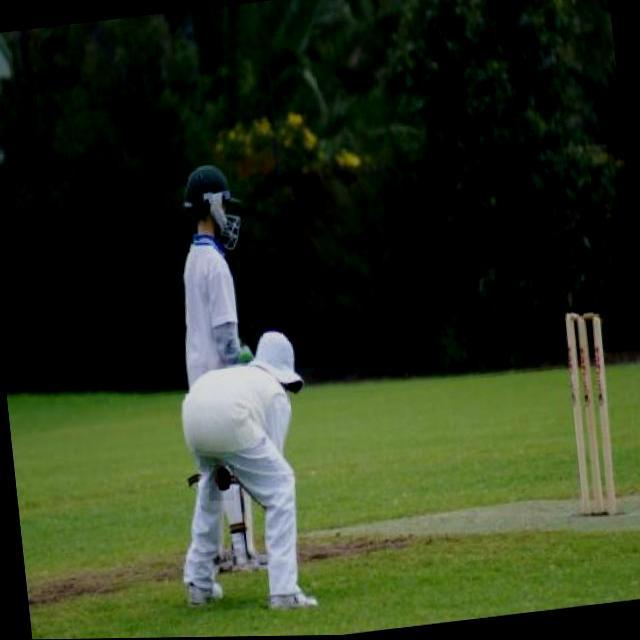-: (209, 466, 234, 502)
